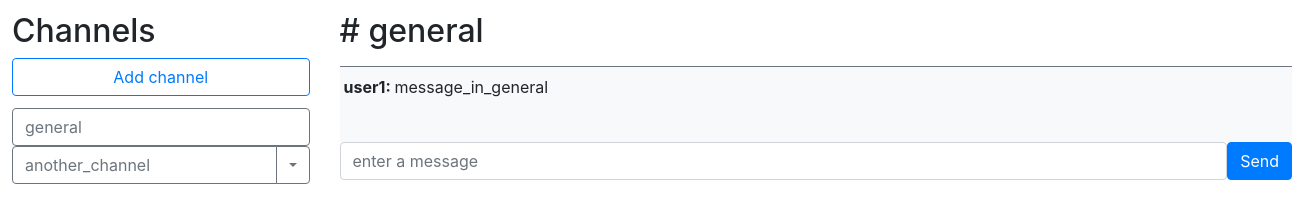
Test: test channels › switch channels › app should show different messages after channel switching
What coordinates should you click on to do the following:
click the button "another_channel"
I would click on:
 (144, 165)
Its box is [12,146,276,184].
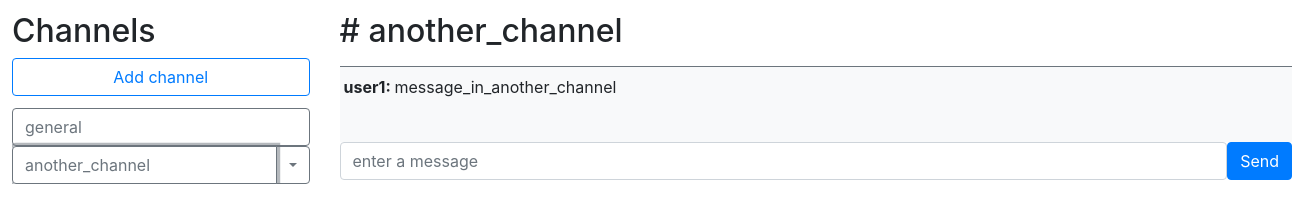
expect the element with test id "messages" no longer shows "message_in_general": met, box [340,66,1292,142]
expect the element with test id "messages" shows "message_in_another_channel": met, box [394,77,616,97]
